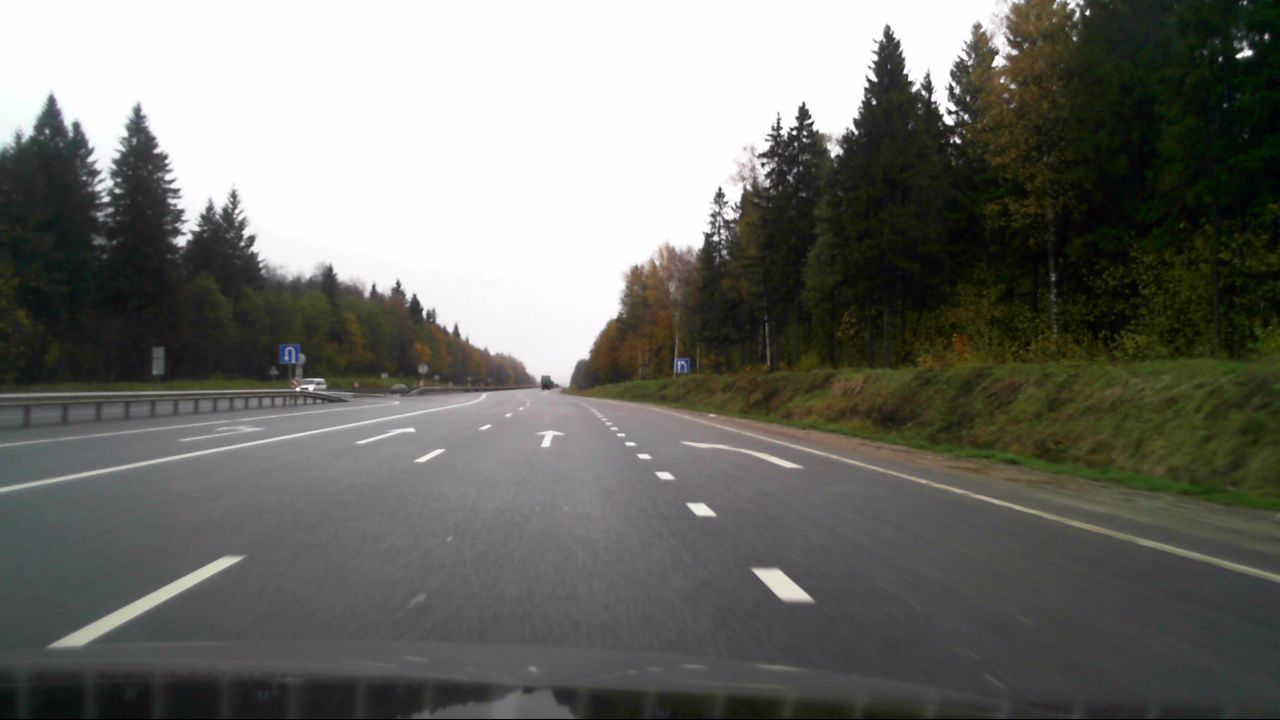U-turn: (279, 344, 299, 364)
